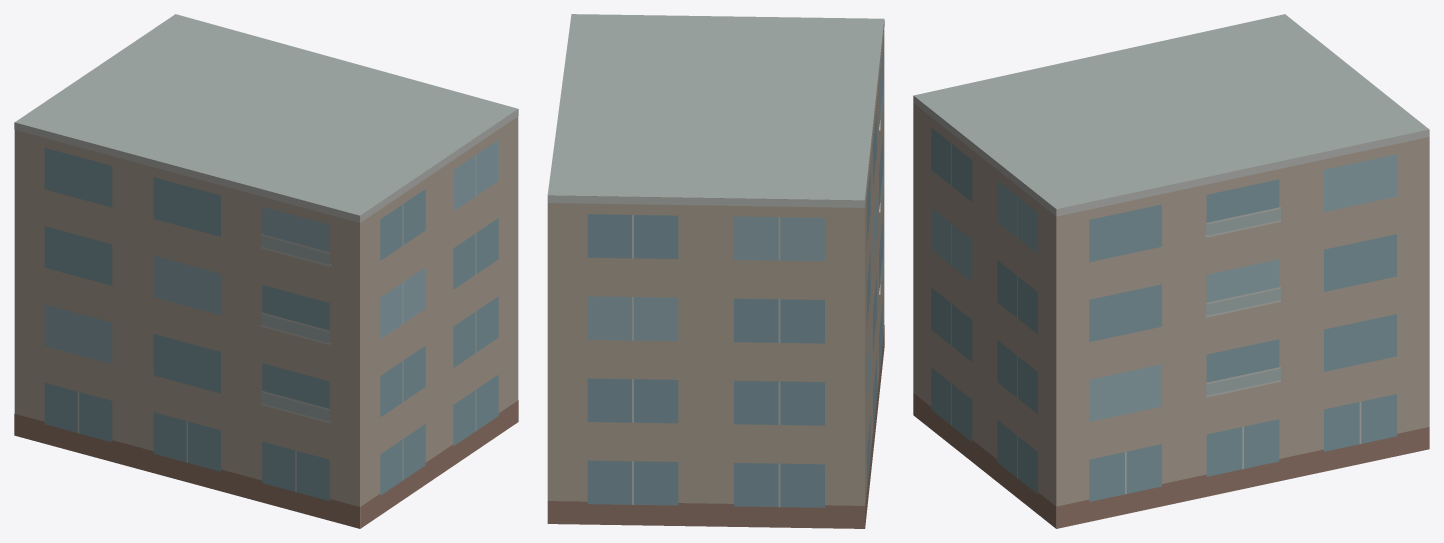
The model's file is survey-upis-32885825.glb.
The picture shows the model from 3 angles, left to right: view 1: azimuth 30°, elevation 25°; view 2: azimuth 150°, elevation 25°; view 3: azimuth 270°, elevation 25°; orthographic projection. The views are drawn at different scales.
Parts seen in each view (by area): view 1: survey-upis-32885825.tmp; view 2: survey-upis-32885825.tmp; view 3: survey-upis-32885825.tmp.
Boxes of the visible parts, x1=… form: survey-upis-32885825.tmp: x1=14, y1=14, x2=518, y2=528; survey-upis-32885825.tmp: x1=547, y1=14, x2=884, y2=528; survey-upis-32885825.tmp: x1=913, y1=14, x2=1429, y2=528.
Bounding box in the file's own units: 13.76 × 10.5 × 15.37.
